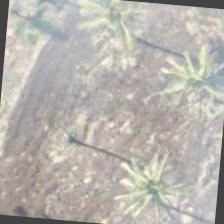Kelapa_Sawit: (101, 146, 198, 223), (152, 28, 223, 125), (60, 0, 156, 61)
